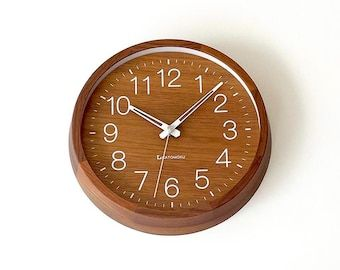clock: (57, 30, 292, 242)
